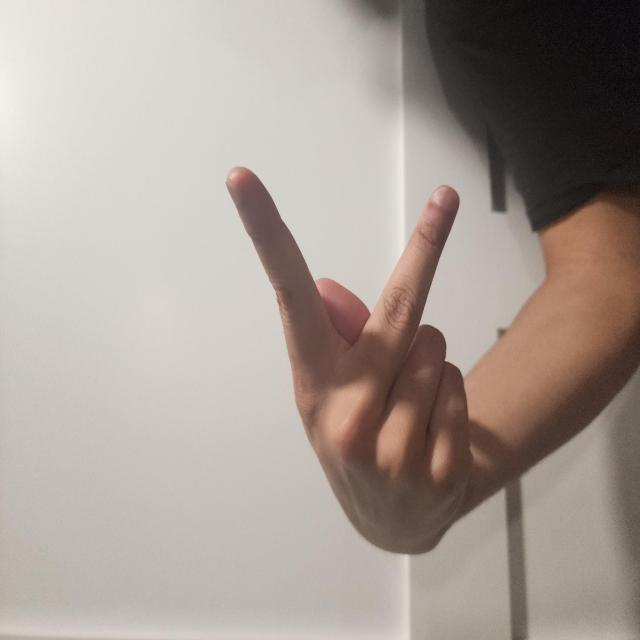P: (59, 298, 359, 636)
